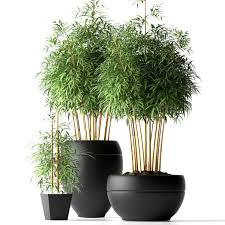bamboo: (31, 8, 212, 119), (126, 3, 201, 171), (39, 1, 113, 138), (31, 113, 76, 187)
